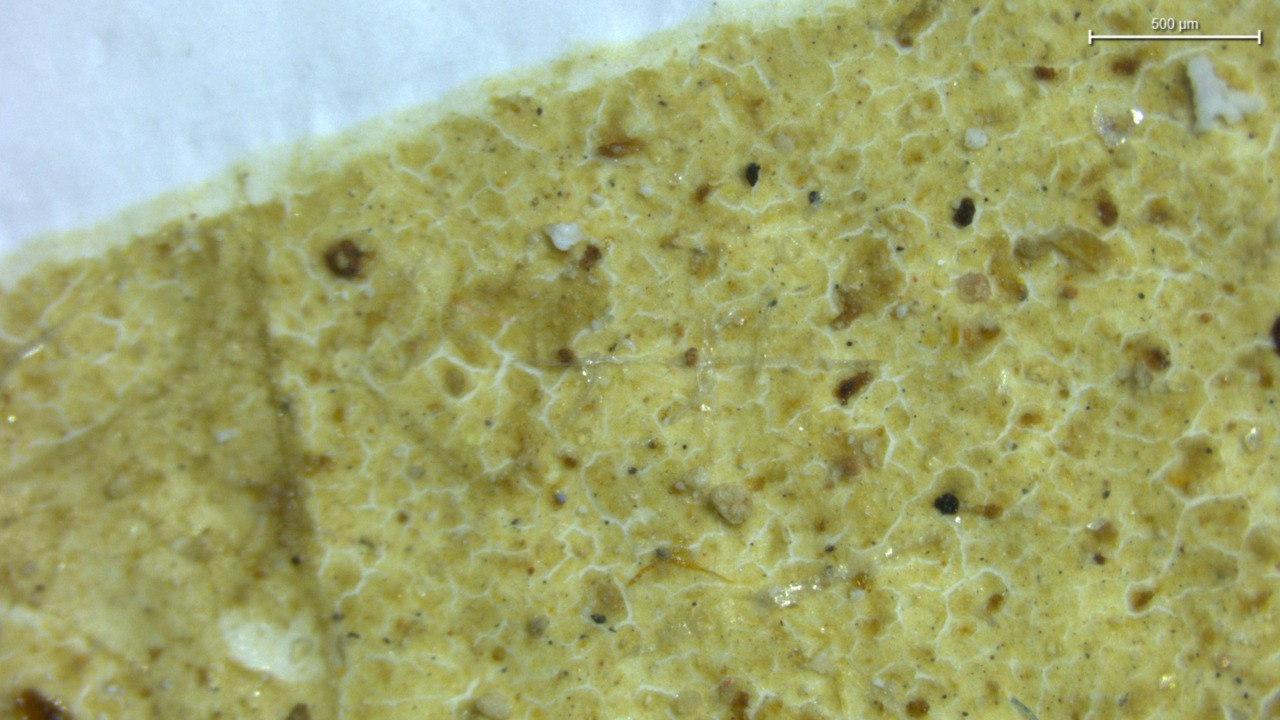microplastic_fragment: (1187, 55, 1260, 130), (709, 484, 751, 525), (545, 222, 584, 250)
